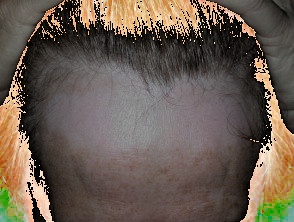vitiligo: (26, 21, 274, 183)
